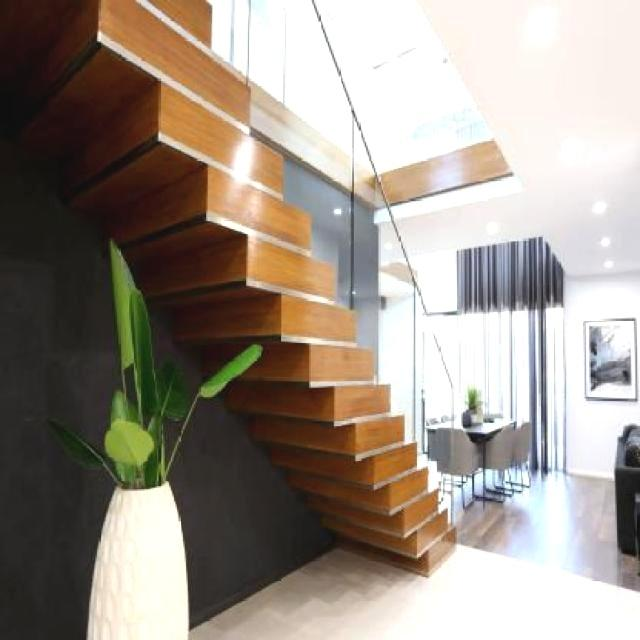stair: (102, 6, 496, 588)
